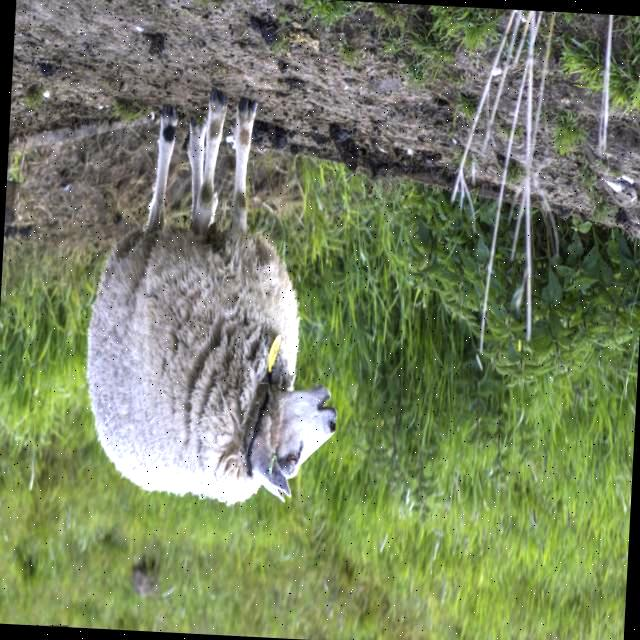sheep: (87, 103, 336, 503)
